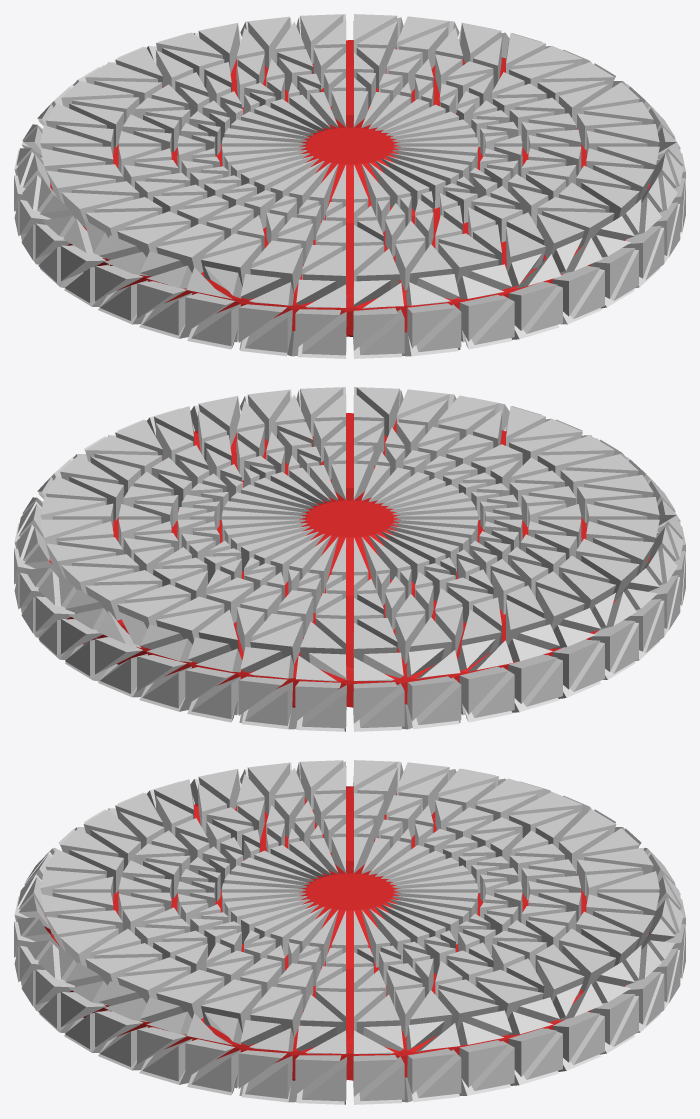
File: circle_thing.glb
3 renders of one model, top to bottom at view 1: azimuth 30°, elevation 25°; view 2: azimuth 150°, elevation 25°; view 3: azimuth 270°, elevation 25°, orthographic.
Parts seen in each view (by area): view 1: circle_thing; view 2: circle_thing; view 3: circle_thing.
Part boxes in pixels (x1,y1,x2,y2): circle_thing: (14, 14, 685, 358); circle_thing: (14, 387, 685, 731); circle_thing: (14, 760, 685, 1104).
Size of what is drawn, in the model's own units: 25.74 by 4.98 by 25.74.
